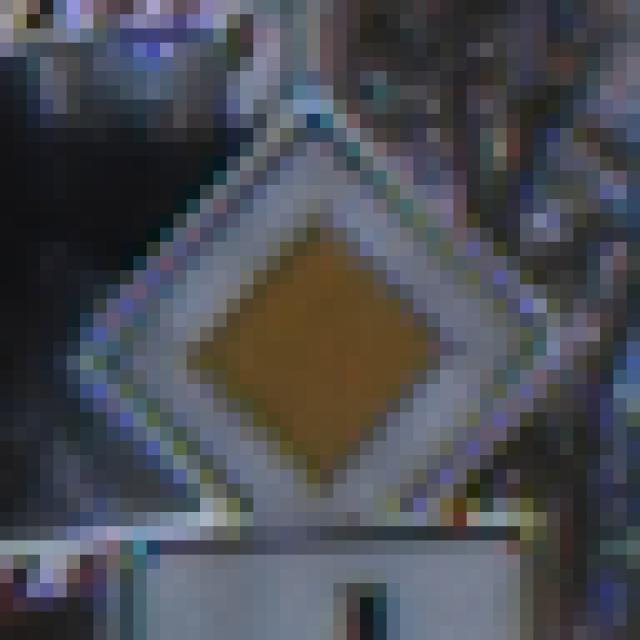Main Road: (68, 72, 574, 556)
